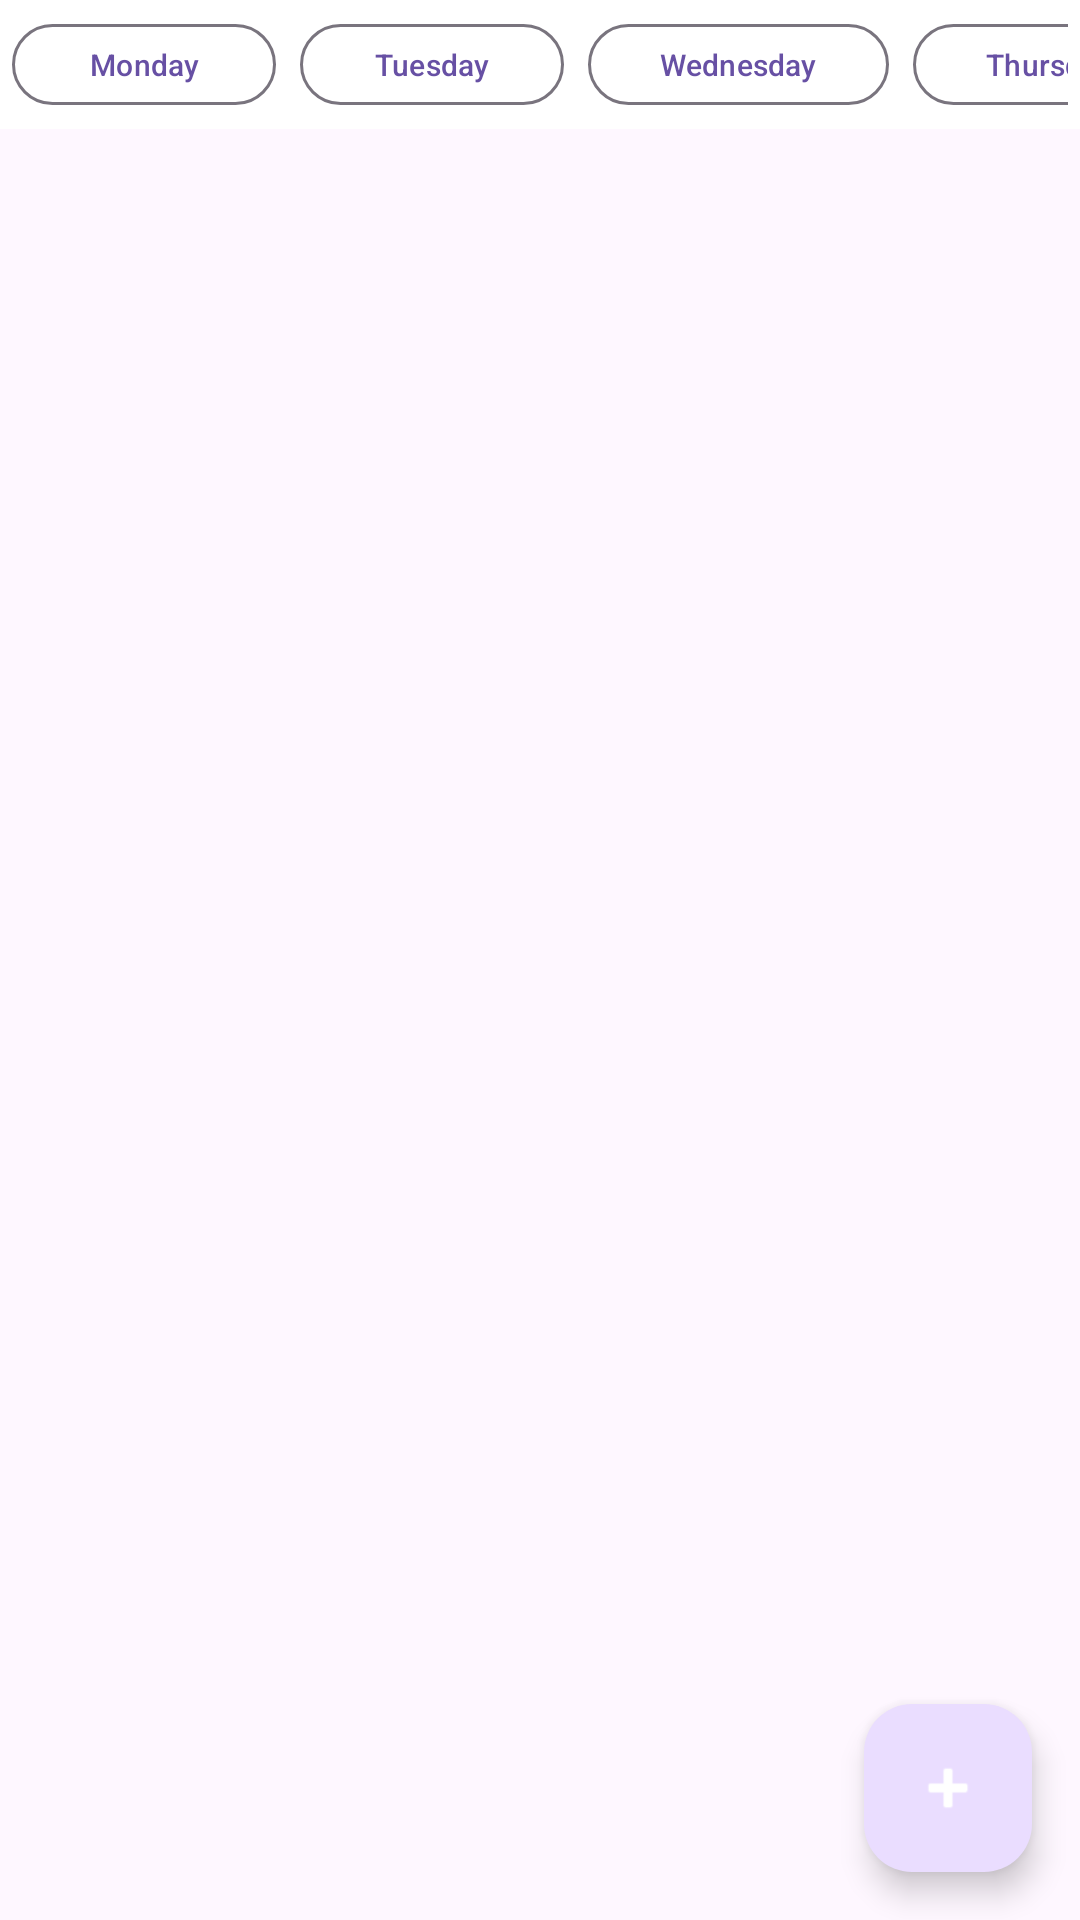

Where to tap for icons on this 1080 x 1920 app screen, as (x=x, y=y):
Add new event: (x=948, y=1788)
